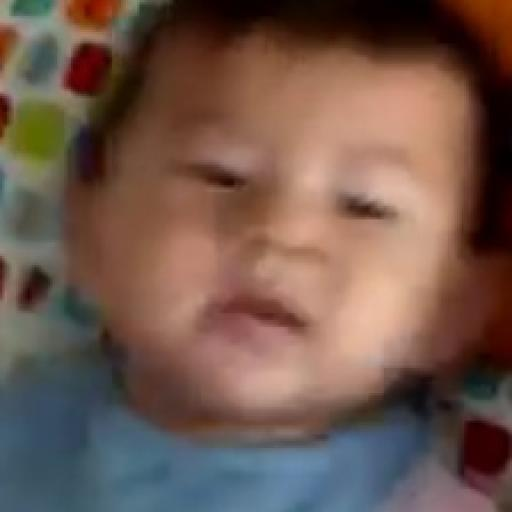Autism: (49, 1, 512, 483)
